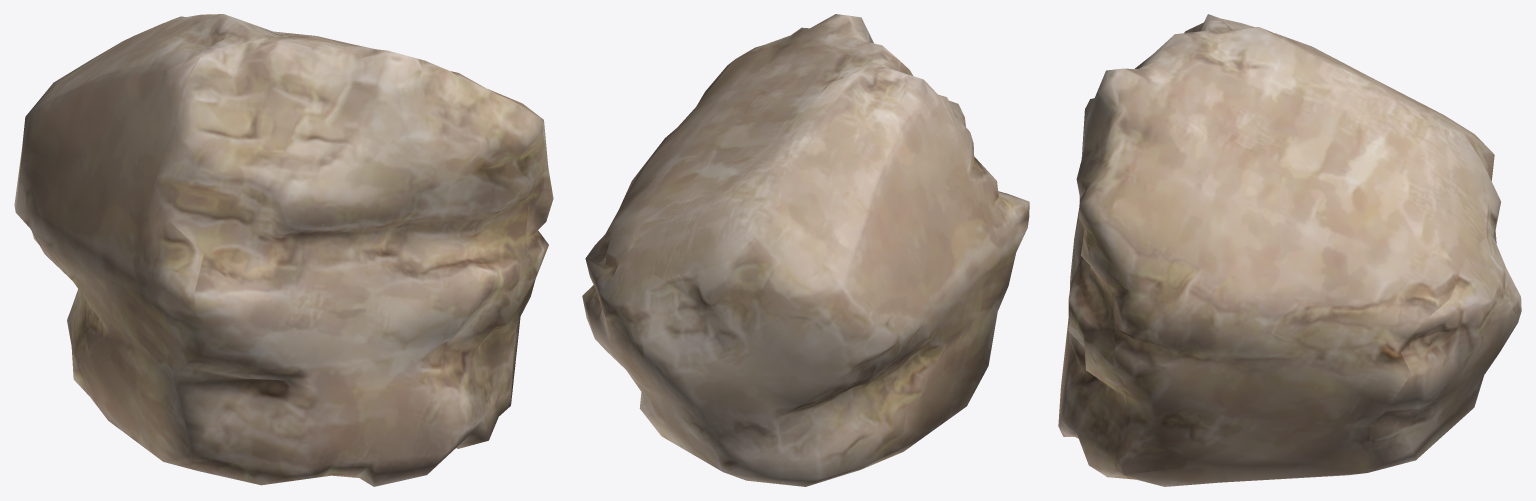
Rendered from Stone_03.FBX.
3 views of the same model, side by side, from view 1: azimuth 30°, elevation 25°; view 2: azimuth 150°, elevation 25°; view 3: azimuth 270°, elevation 25° (orthographic). The views are drawn at different scales.
Parts seen in each view (by area): view 1: Stone_03_LOD0; view 2: Stone_03_LOD0; view 3: Stone_03_LOD0.
Boxes of the visible parts, bbox=[...] form: Stone_03_LOD0: bbox=[14, 14, 553, 486]; Stone_03_LOD0: bbox=[582, 14, 1029, 486]; Stone_03_LOD0: bbox=[1058, 14, 1521, 486].
Size of what is drawn, in the model's own units: 0.7143 by 0.6984 by 0.785.
